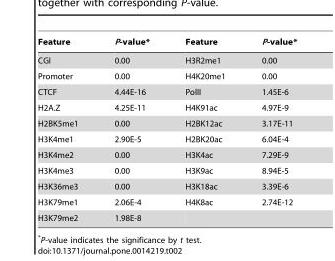table: (37, 37, 296, 222)
table column: (166, 37, 242, 222), (95, 37, 166, 222), (37, 37, 95, 222), (242, 37, 296, 222)
table column header: (37, 37, 296, 50)
table row: (37, 50, 296, 68), (37, 83, 296, 99), (37, 99, 296, 115), (37, 115, 296, 131), (37, 146, 296, 162), (37, 162, 296, 178), (37, 178, 296, 194), (37, 68, 296, 83), (37, 131, 296, 146), (37, 194, 296, 209), (37, 37, 296, 50), (37, 209, 296, 222)
